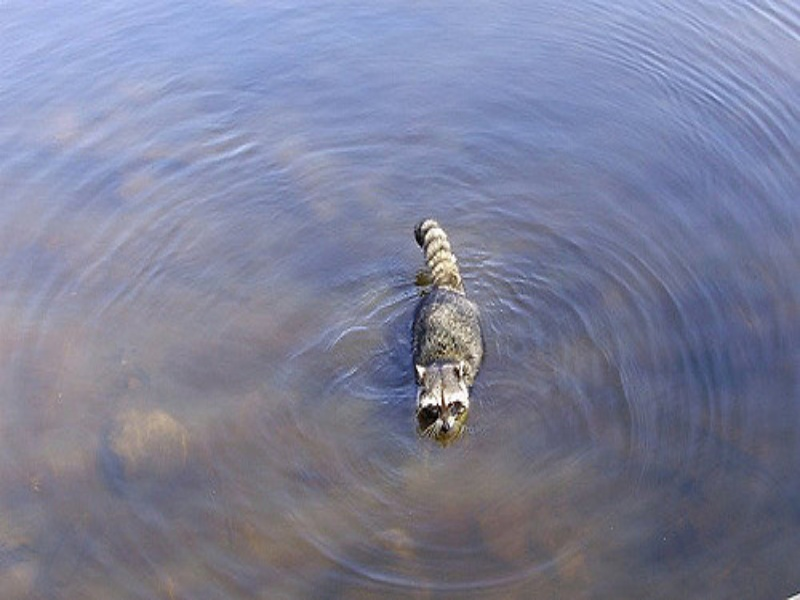raccoon: (408, 216, 489, 448)
